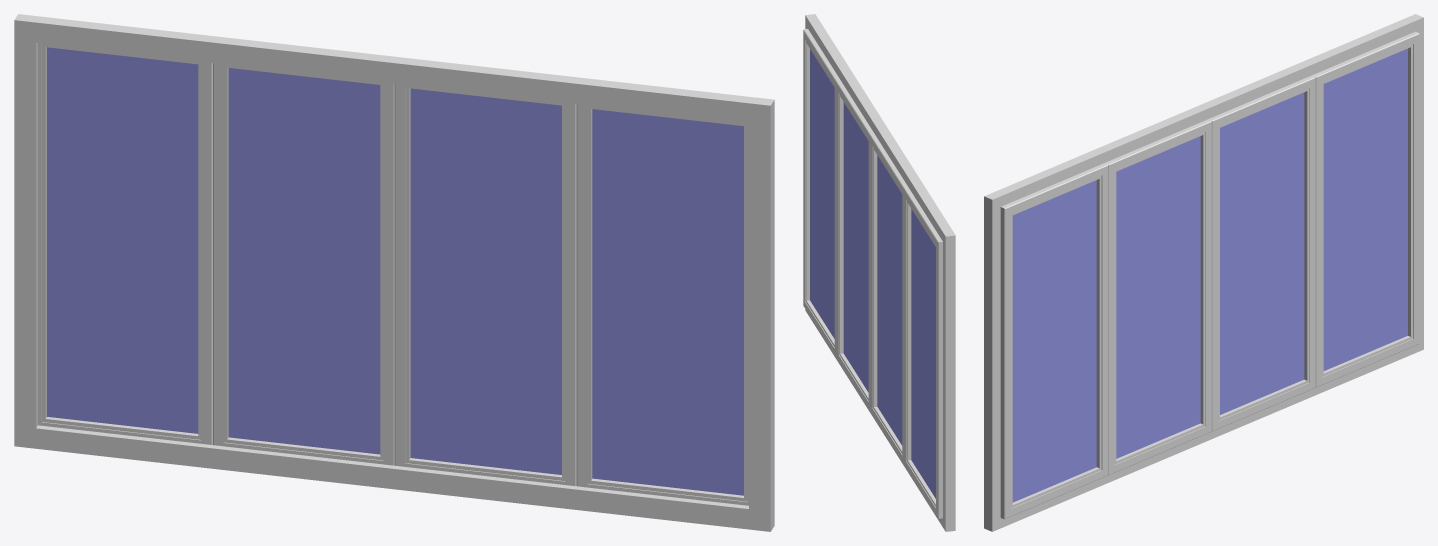
File: window-large.fbx
The picture shows the model from 3 angles, left to right: view 1: azimuth 30°, elevation 25°; view 2: azimuth 150°, elevation 25°; view 3: azimuth 270°, elevation 25°; orthographic projection. The views are drawn at different scales.
Visible parts, largest first — view 1: Window Panel.005, Window Panel.004, Window Panel.003, Window Panel.006, Window.001; view 2: Window Panel.003, Window Panel.004, Window Panel.005, Window Panel.006, Window.001; view 3: Window Panel.006, Window Panel.004, Window Panel.003, Window Panel.005, Window.001.
Boxes of the visible parts, x1,y1,x2,y2 form: Window Panel.005: [394, 83, 576, 486]; Window Panel.004: [213, 63, 394, 465]; Window Panel.003: [38, 43, 212, 444]; Window Panel.006: [576, 104, 748, 505]; Window.001: [14, 14, 774, 531]; Window Panel.003: [904, 188, 942, 518]; Window Panel.004: [870, 135, 908, 464]; Window Panel.005: [837, 82, 874, 411]; Window Panel.006: [803, 29, 841, 357]; Window.001: [805, 14, 955, 531]; Window Panel.006: [1000, 163, 1107, 519]; Window Panel.004: [1208, 75, 1315, 431]; Window Panel.003: [1312, 31, 1419, 387]; Window Panel.005: [1105, 119, 1211, 475]; Window.001: [984, 14, 1423, 531].
Size of the model in its own units: 226 by 188 by 226.
